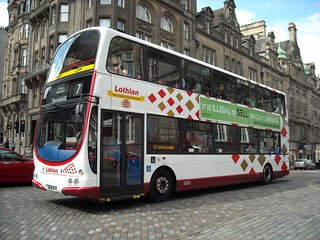bus: (30, 26, 289, 203)
